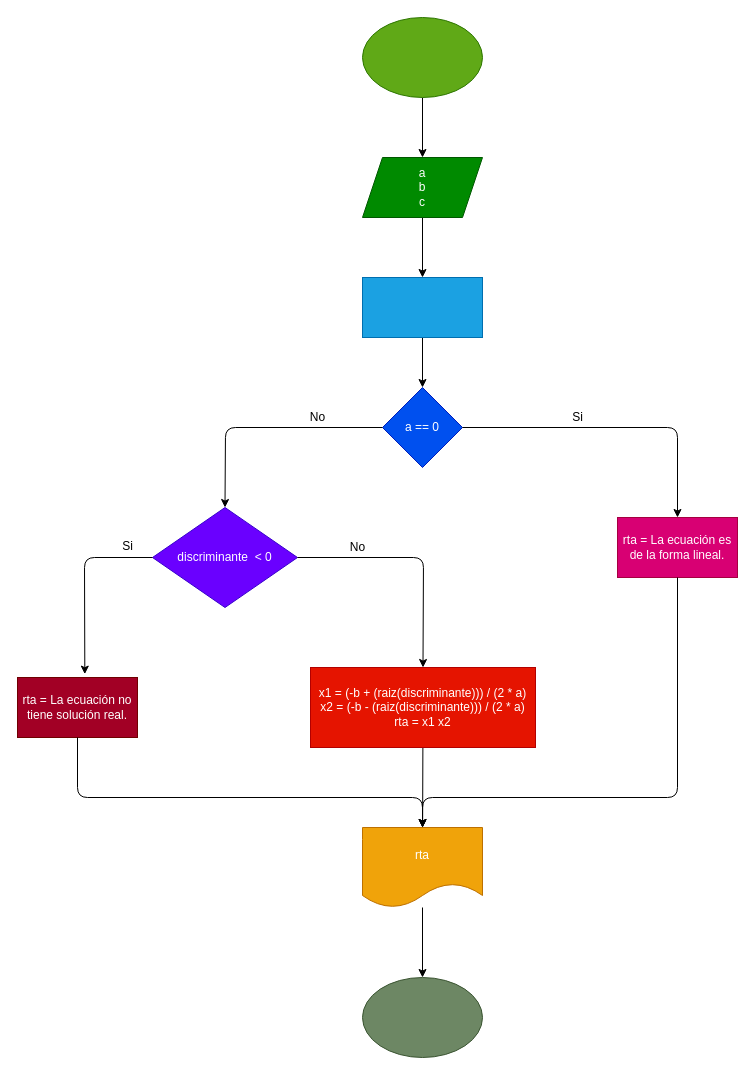
This 755x1075 diagram has some shape labels left out. The box of each missing label's shape, as (x1, y1, x2, y2) in pixels:
discriminante = ( b ** 2) - ( 4 * a * c ): (362, 276, 482, 338)
Fin: (362, 976, 482, 1058)
Inicio: (362, 16, 482, 98)
